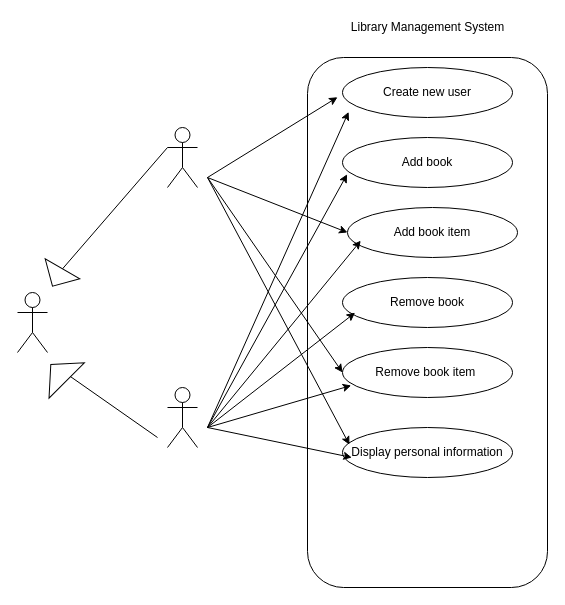
Some shapes in this 565 by 605 pixel diagram are drawn without their labels. The centre of each missing label's shape, as x and y in pixels:
"Librarian" goes at [182,417].
"Member" goes at [182,157].
"User" goes at [32,322].
